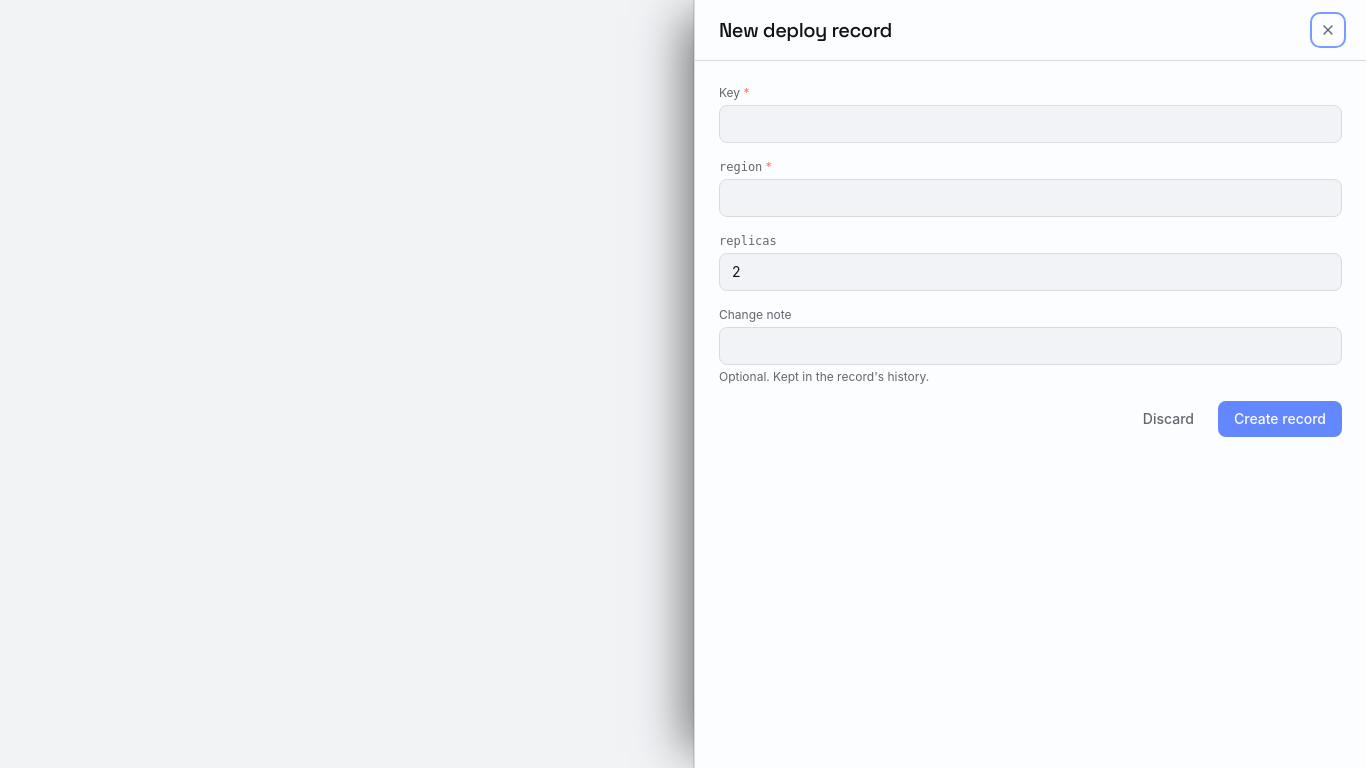
Test: creating a record with a split restriction › stays on the list when the credential may write the key but not read it
This screenshot has width=1366, height=768.
Type "inbox/a" into the field labelled "Key *" at coordinates (1030, 124), box [719,105,1342,143]
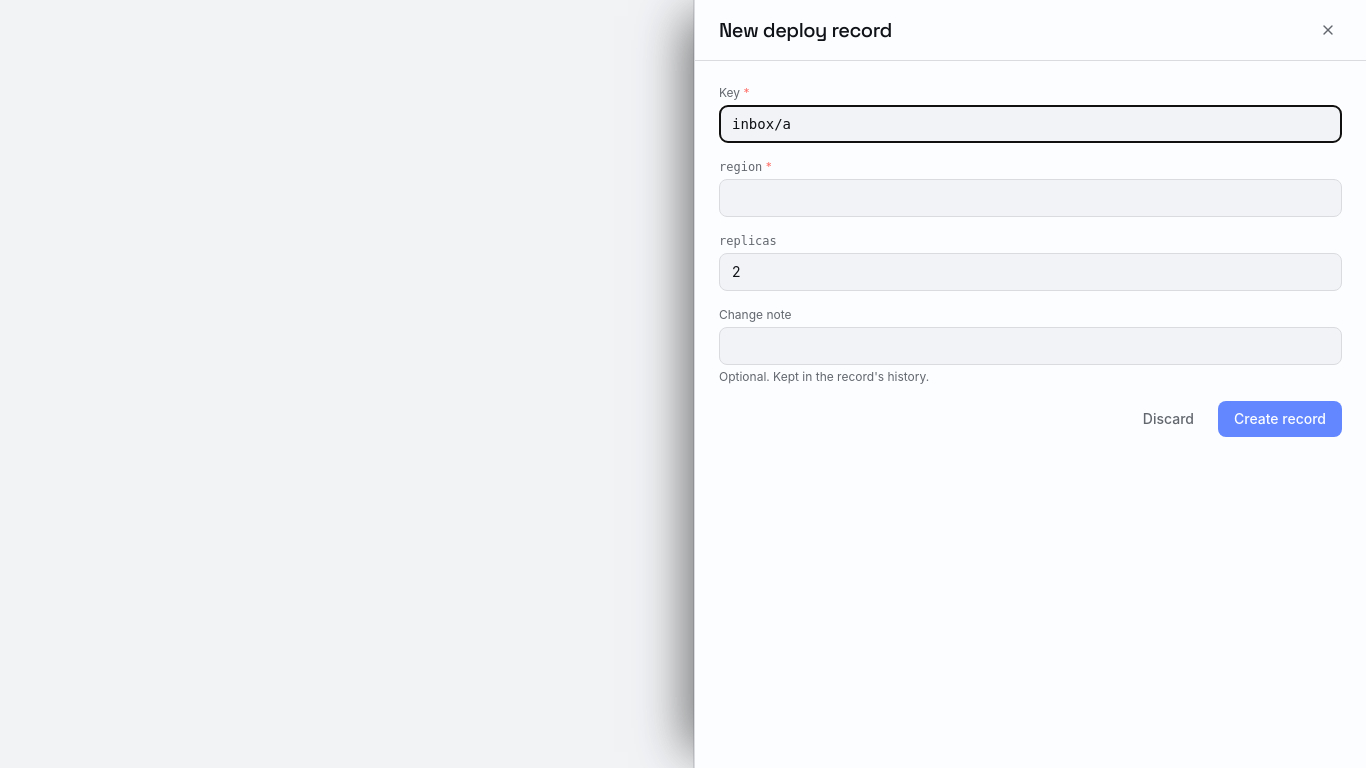
Type "us" into the field labelled "region *" at coordinates (1030, 198), box [719,179,1342,217]
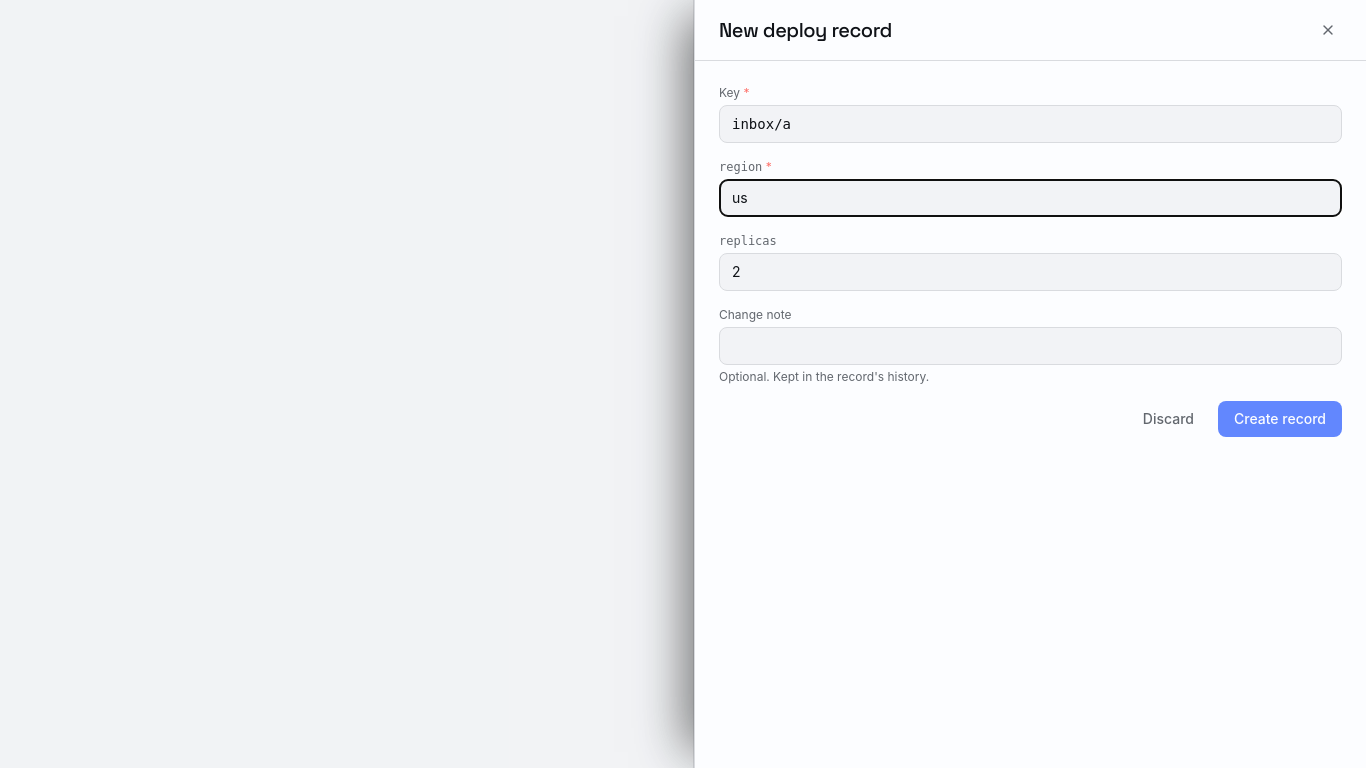
Click the button "Create record" at coordinates (1280, 419), box [1218,401,1342,437]
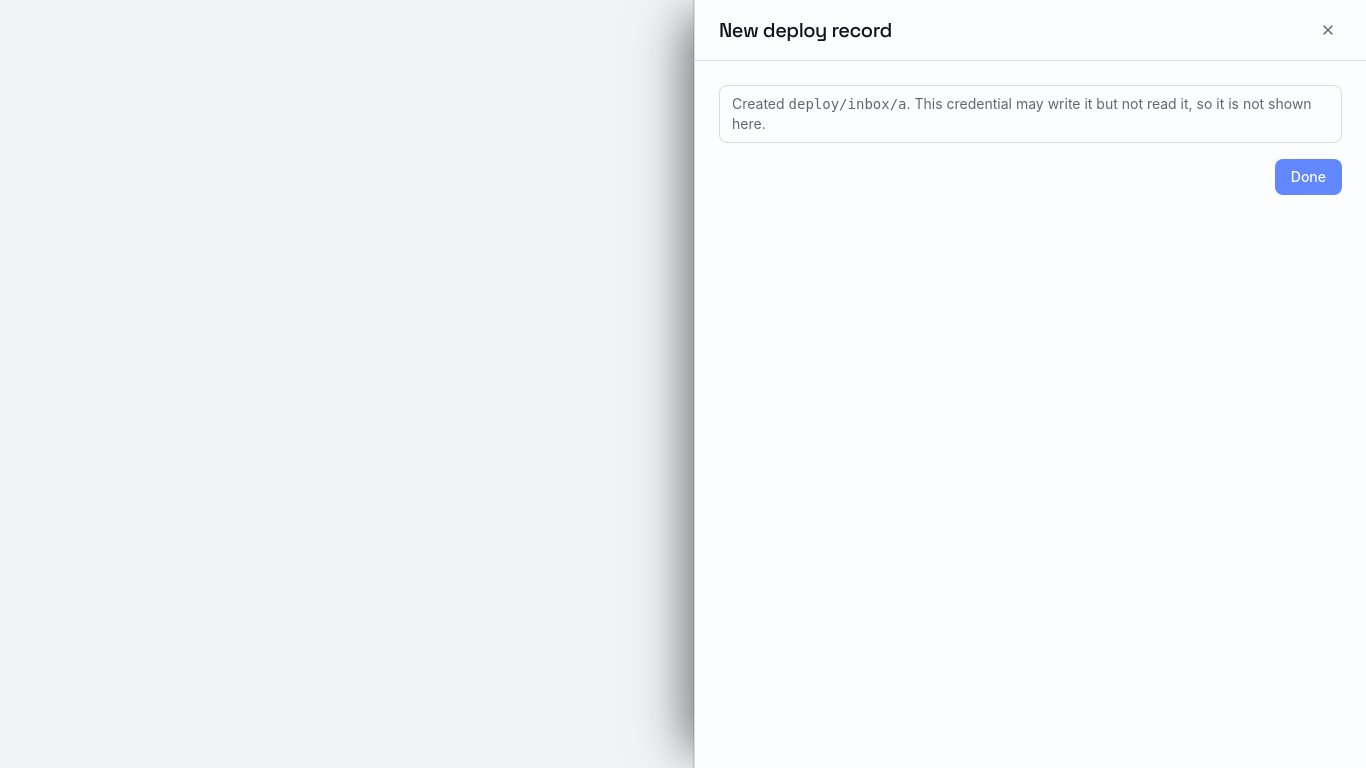
Expected: the text "may write it but not read it" is shown, [732,95,1312,132]
Expected: the button "Done" is shown, [1275,159,1342,195]
Expected: the button "Create record" is gone
